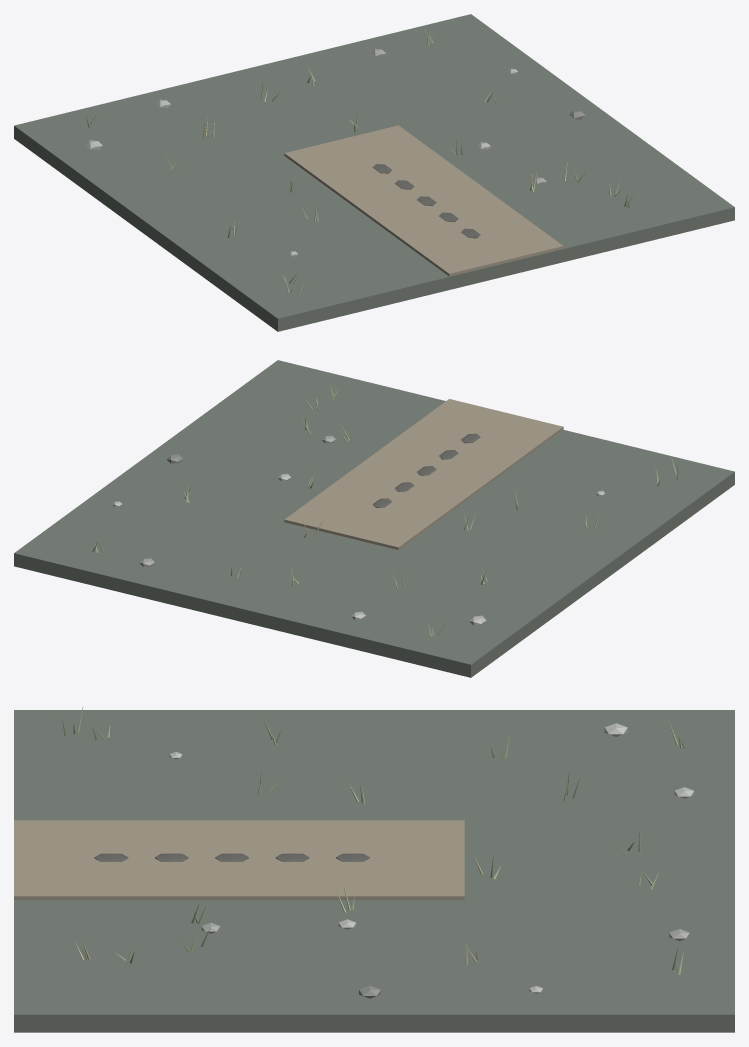
File: path_cap_s.glb
3 renders of one model, top to bottom at view 1: azimuth 30°, elevation 25°; view 2: azimuth 150°, elevation 25°; view 3: azimuth 270°, elevation 25°, orthographic. The views are drawn at different scales.
Visible parts, largest first — view 1: road_material_00, road_material_01, road_material_07, road_material_04, road_material_03; view 2: road_material_00, road_material_01, road_material_07, road_material_04; view 3: road_material_00, road_material_01, road_material_07, road_material_04, road_material_03, road_material_02.
Part boxes in pixels (x1,y1,x2,y2): road_material_00: (14,14,734,331); road_material_01: (284,125,563,276); road_material_07: (372,164,480,238); road_material_04: (90,30,629,294); road_material_03: (86,26,633,292); road_material_00: (14,360,734,677); road_material_01: (284,399,563,549); road_material_07: (372,433,480,507); road_material_04: (92,385,677,635); road_material_00: (14,710,734,1032); road_material_01: (14,820,464,899); road_material_07: (94,853,369,861); road_material_04: (62,706,683,974); road_material_03: (73,717,685,970); road_material_02: (169,723,694,993).
Bounding box in the file's own units: 8 × 0.5389 × 8.
